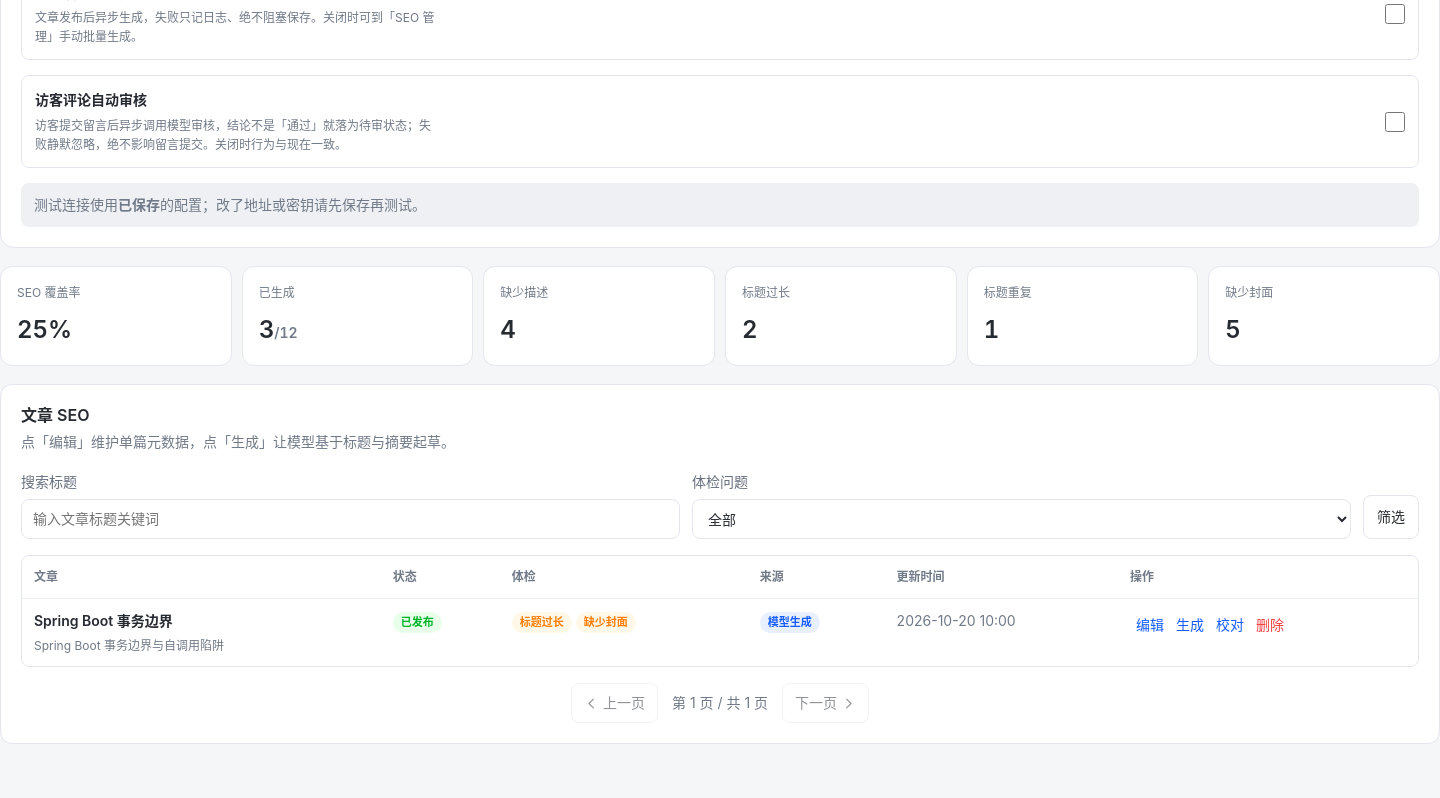
Scenario: SEO admin page › shows the server message when a single generation fails
(page scrolled)
Click the button with class "link-button" showing "生成" at coordinates (1190, 625), box [1170,610,1210,640]
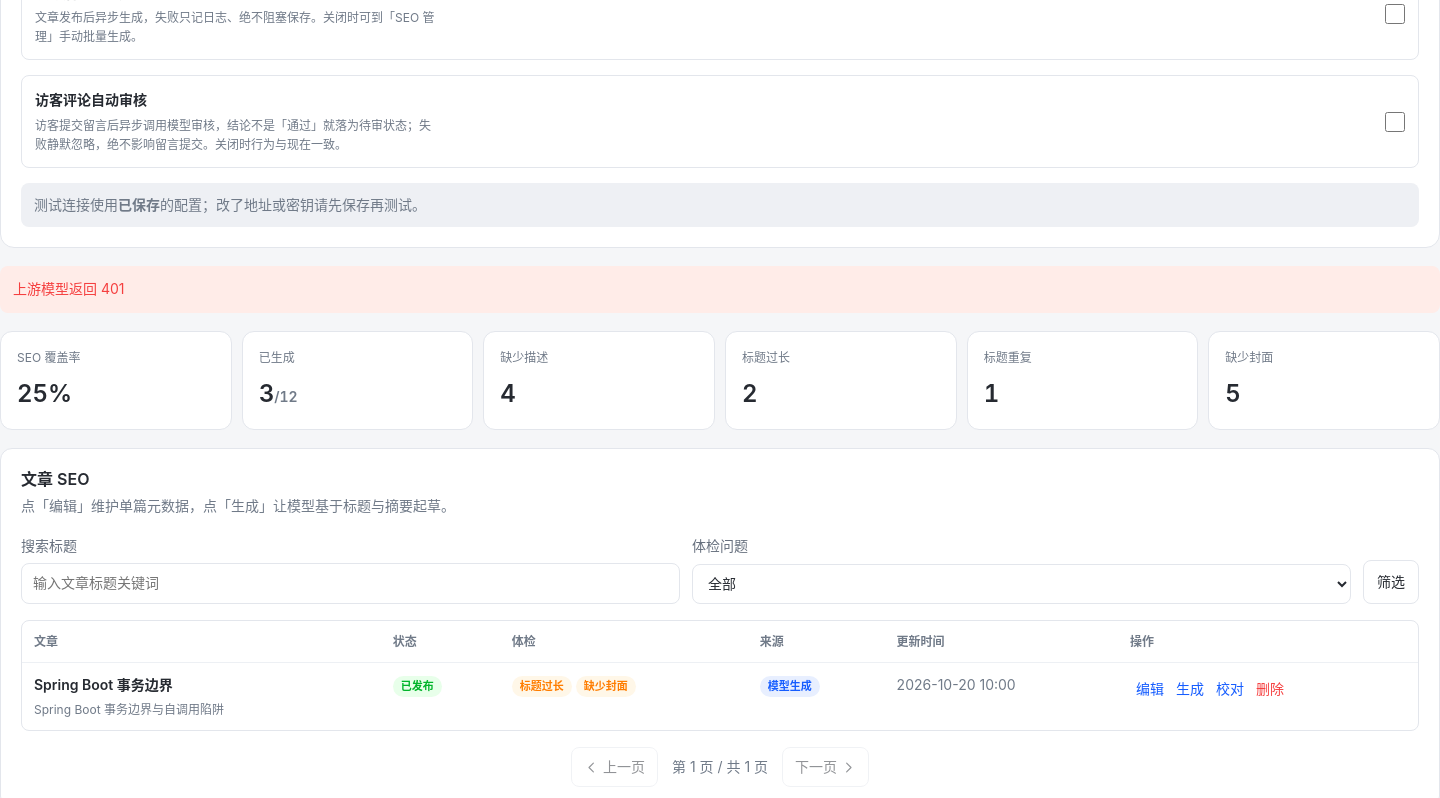
Now the message with class "alert" reads "上游模型返回 401", box [13,280,124,298]
